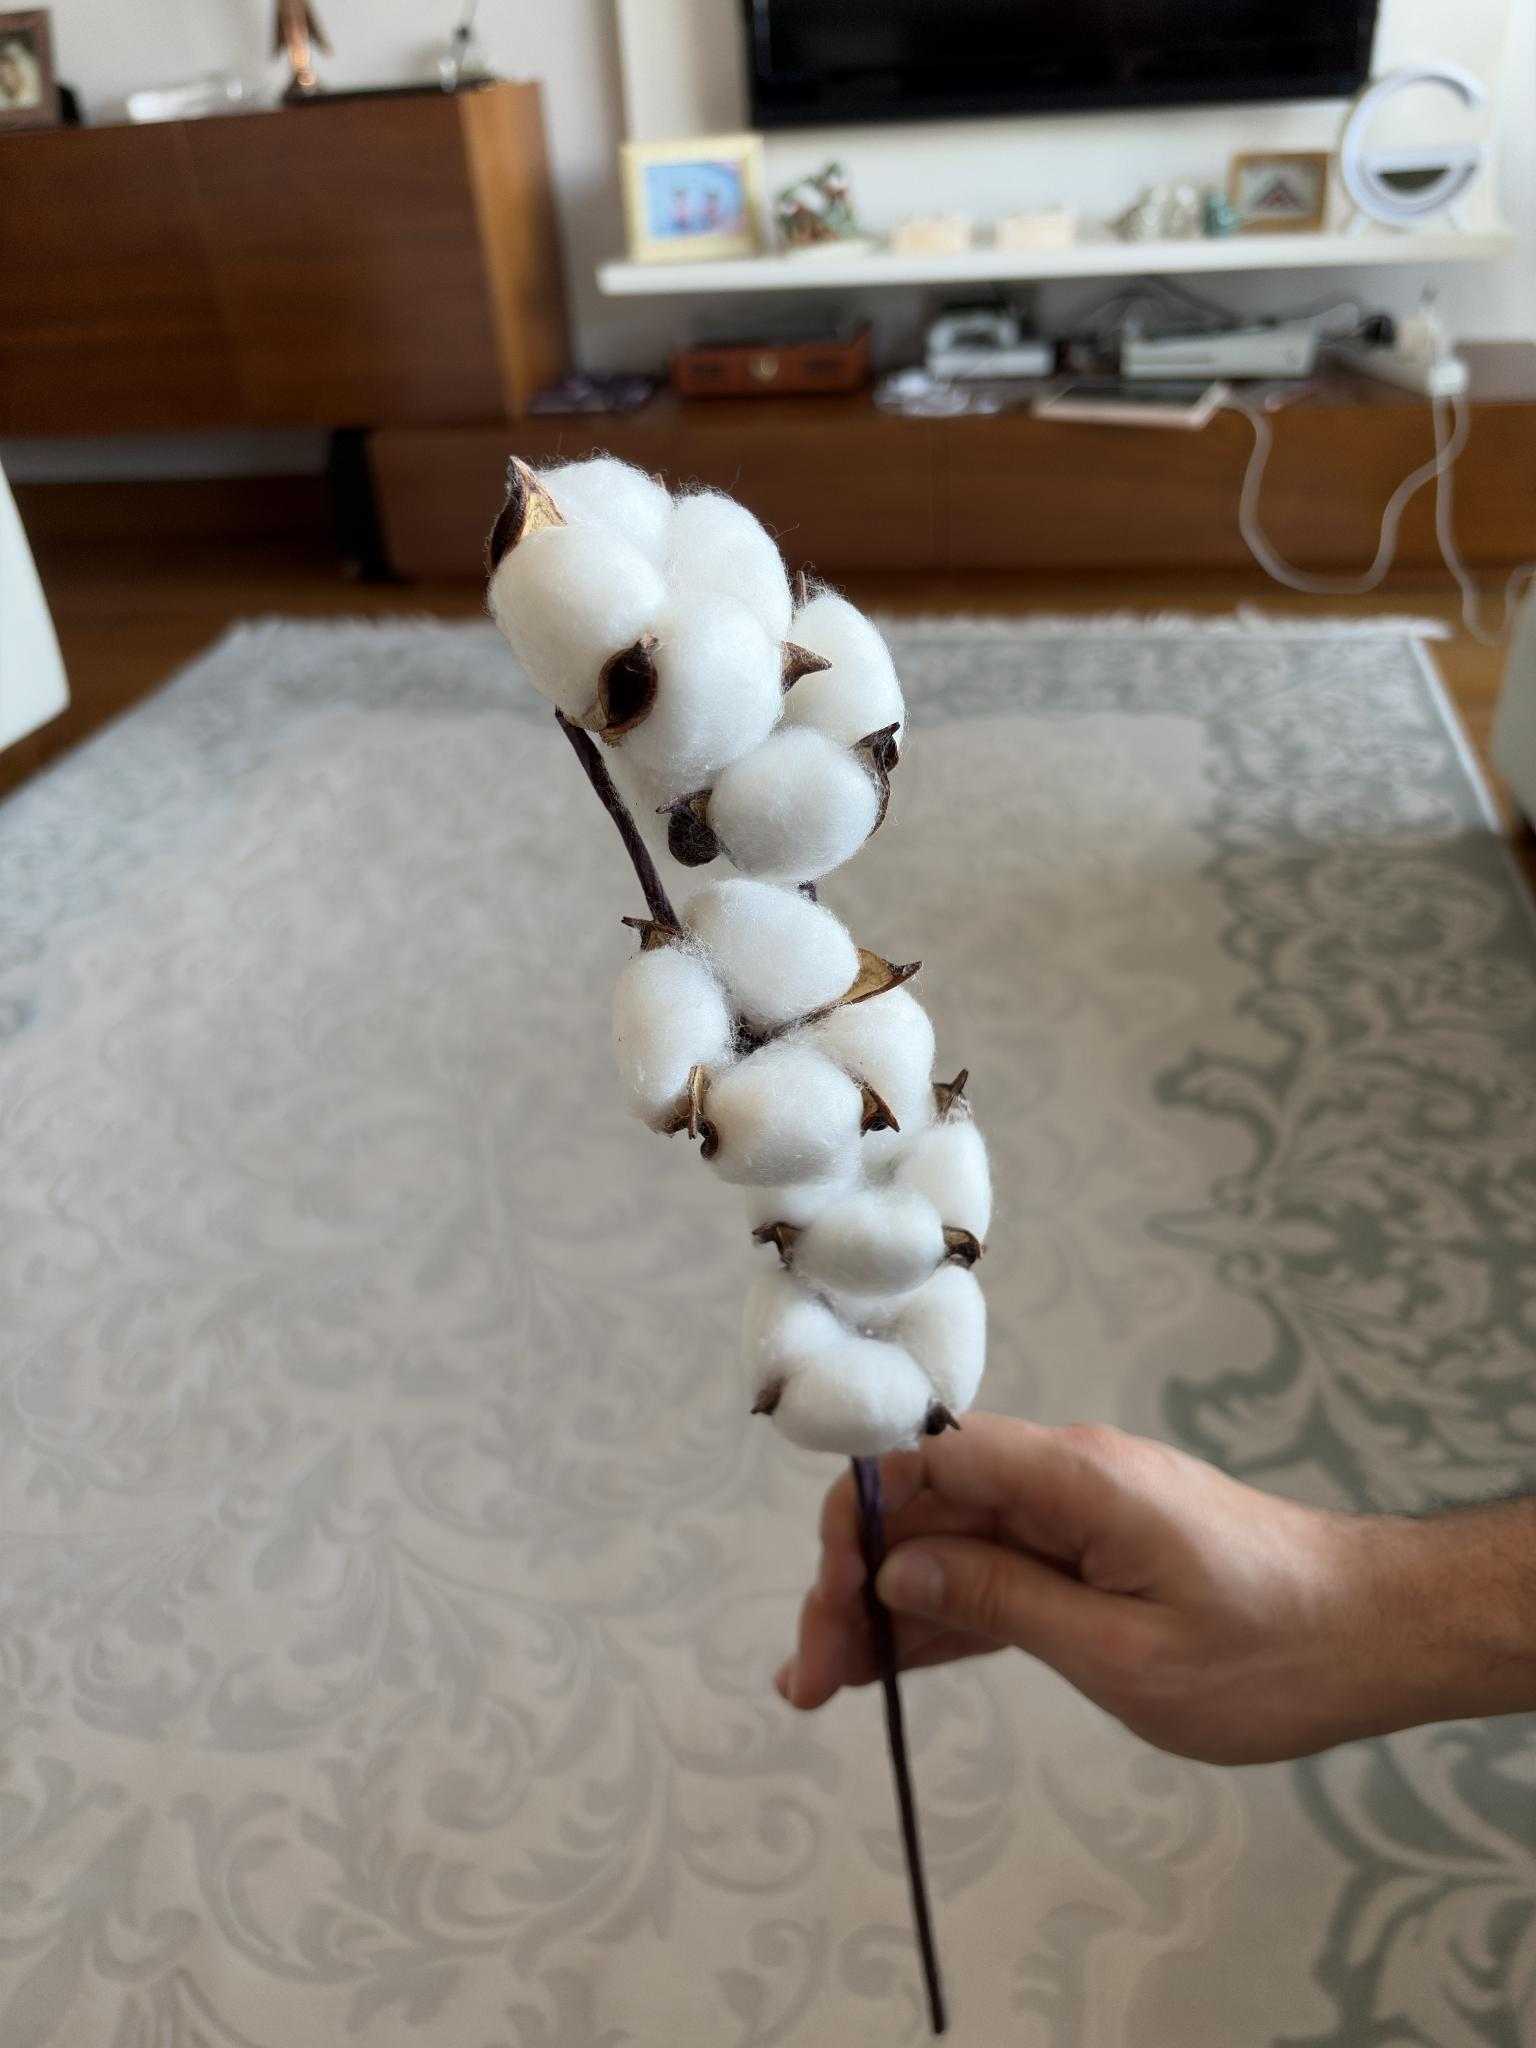cotton_boll: (618, 589, 783, 803), (489, 524, 665, 721), (707, 729, 881, 887), (682, 879, 858, 1032), (702, 1042, 865, 1187), (613, 945, 733, 1134), (773, 1338, 936, 1456), (781, 1188, 955, 1298), (805, 989, 936, 1134), (784, 592, 905, 747), (666, 492, 791, 642), (742, 1271, 850, 1413), (884, 1266, 986, 1416), (537, 456, 671, 564), (892, 1116, 992, 1240), (744, 1171, 860, 1230), (860, 1108, 936, 1182), (816, 1282, 916, 1337)
cotton_boll-cluster: (487, 440, 905, 884), (610, 874, 933, 1190), (728, 1087, 999, 1301), (741, 1251, 989, 1464)
